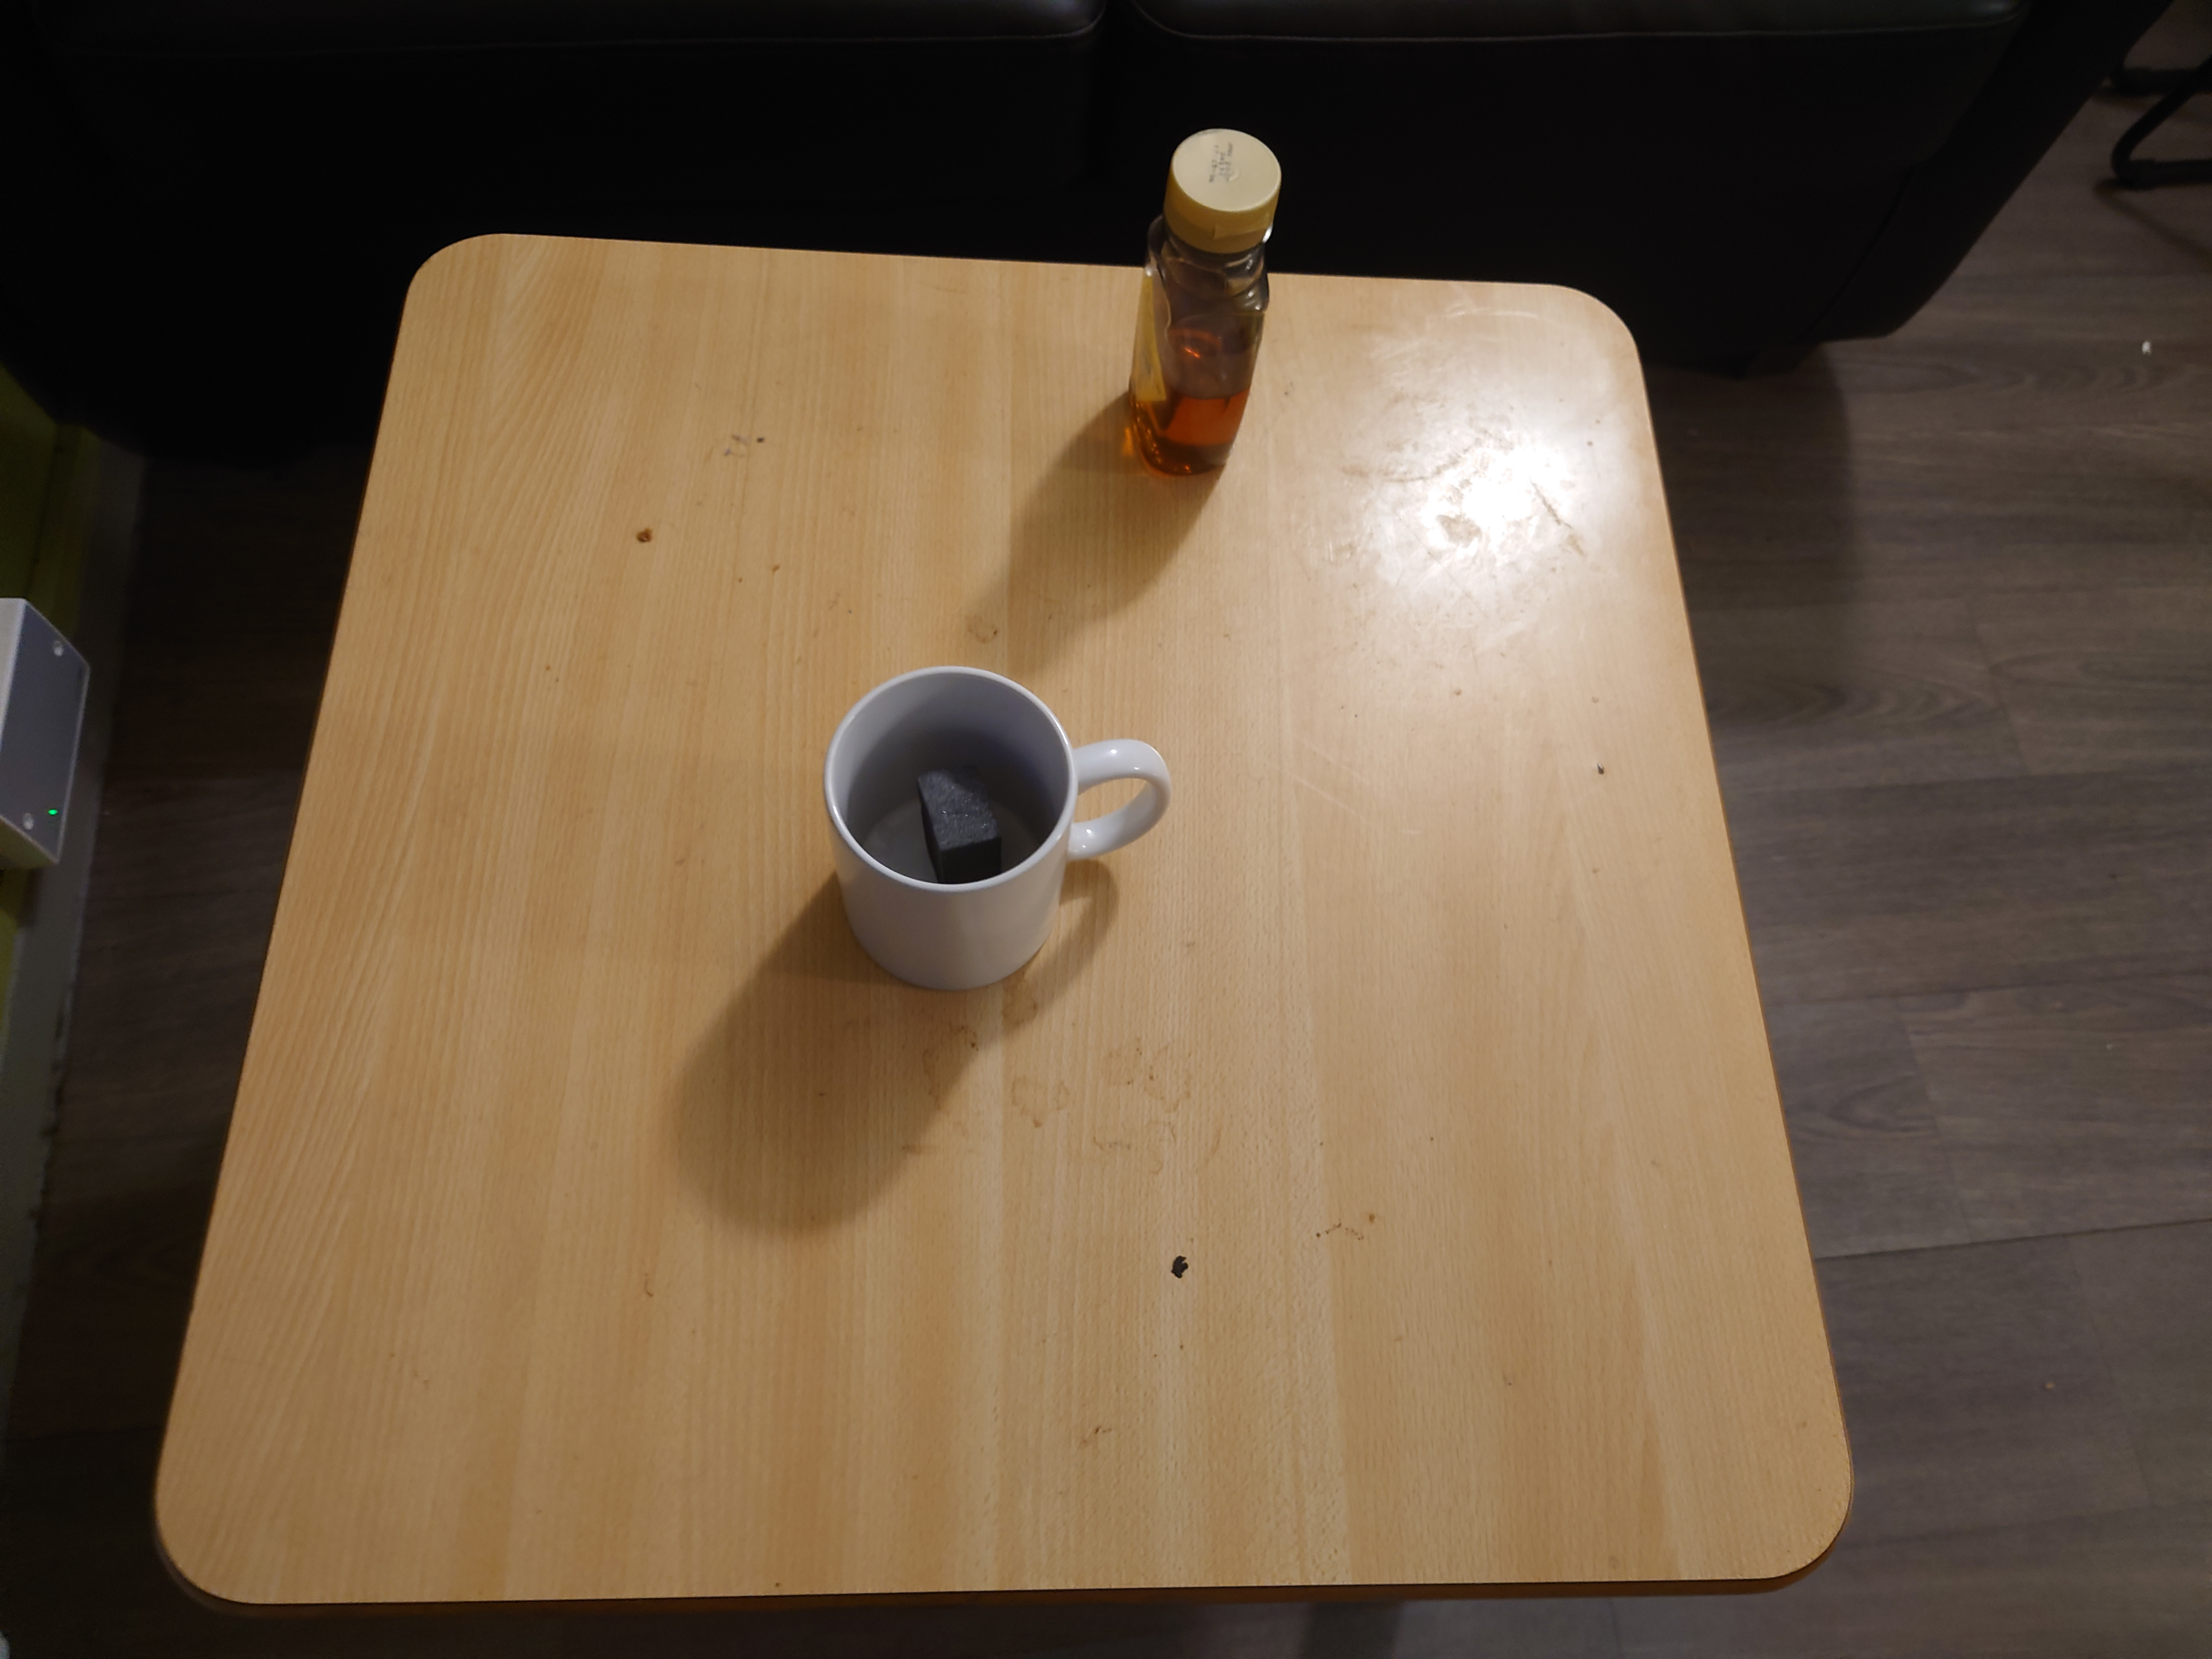cup: (801, 662, 1172, 999)
target: (907, 751, 1010, 925)
